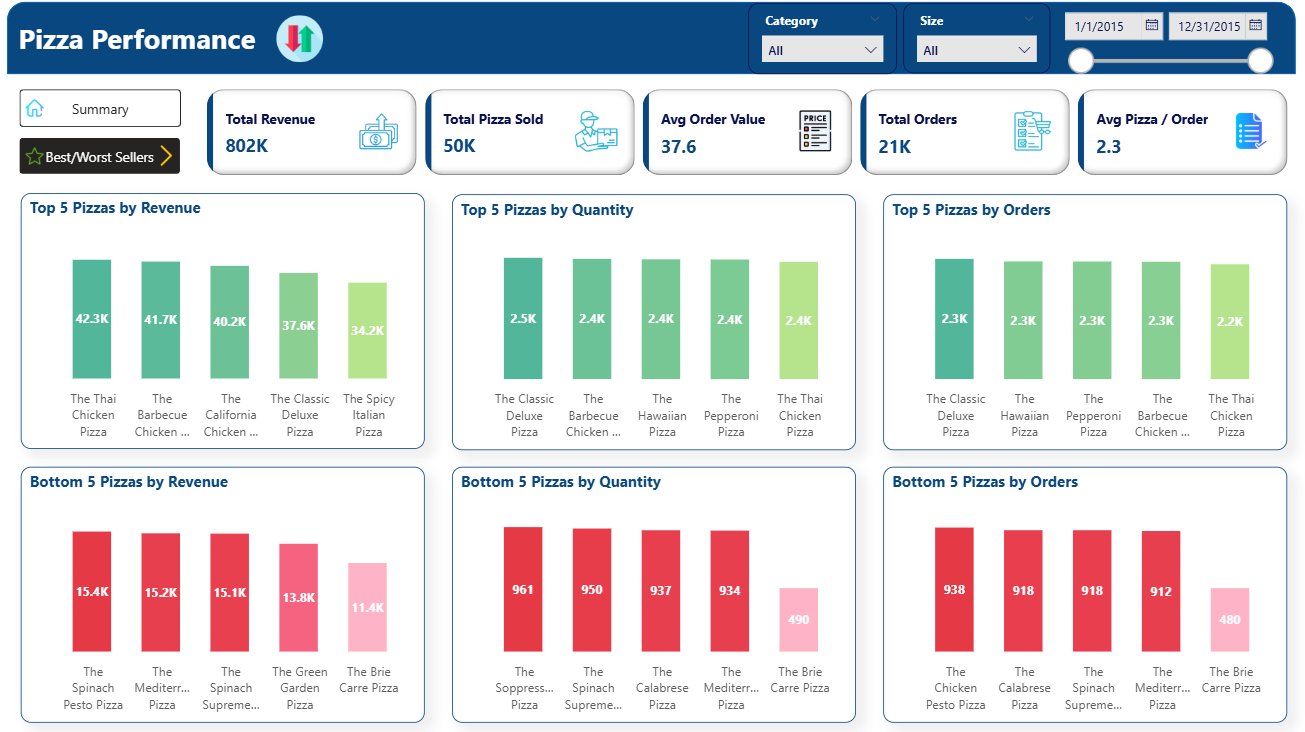

Layout of this report page (visuals, bound fields, positions):
{"tool":"powerbi","page":{"name":"Best/Worst Sellers","canvas":[1280,720],"ordinal":1},"visuals":[{"type":"columnChart","title":"Top 5 Pizzas by Revenue","fields":{"Category":["pizza_sales.pizza_name"],"Y":["Key Measures.Total Revenue"]},"box":[23.2,191.1,395,250.7],"z":0},{"type":"columnChart","title":"Bottom 5 Pizzas by Revenue","fields":{"Category":["pizza_sales.pizza_name"],"Y":["Key Measures.Total Revenue"]},"box":[23.2,459.1,395,250],"z":1000},{"type":"columnChart","title":"Bottom 5 Pizzas by Quantity","fields":{"Category":["pizza_sales.pizza_name"],"Y":["Key Measures.Total Pizza Sold"]},"box":[445.1,459.1,395,250],"z":2000},{"type":"columnChart","title":"Top 5 Pizzas by Orders","fields":{"Category":["pizza_sales.pizza_name"],"Y":["Key Measures.Total Orders"]},"box":[867,191.8,395,250],"z":3000},{"type":"columnChart","title":"Top 5 Pizzas by Quantity","fields":{"Category":["pizza_sales.pizza_name"],"Y":["Key Measures.Total Pizza Sold"]},"box":[445.1,191.8,395,250],"z":4000},{"type":"columnChart","title":"Bottom 5 Pizzas by Orders","fields":{"Category":["pizza_sales.pizza_name"],"Y":["Key Measures.Total Orders"]},"box":[867,459.1,395,250],"z":5000},{"type":"group","id":"g1","title":"Group 1","box":[22,89.5,159,37.9],"z":6000},{"type":"group","id":"g2","title":"Group 2","box":[22,136.7,157.7,35.5],"z":7000},{"type":"image","box":[150.4,135.7,30.6,36.7],"z":8000},{"type":"cardVisual","fields":{"Data":["pizza_sales.Total Revenue","pizza_sales.Total Pizza Sold","pizza_sales.Avg Order value","pizza_sales.Total Orders","pizza_sales.Avg Pizza Per Order"]},"box":[200.5,84.4,1070,94.2],"z":9000},{"type":"shape","box":[9.8,3.7,1260.7,70.9],"z":10000},{"type":"slicer","fields":{"Values":["pizza_sales.order_date"]},"box":[1032.1,3.7,225,73],"z":11000},{"type":"slicer","fields":{"Values":["pizza_sales.pizza_category"]},"box":[734.9,4.9,145.5,69.7],"z":12000},{"type":"slicer","fields":{"Values":["pizza_sales.pizza_size"]},"box":[886.6,4.9,144.3,68.5],"z":13000},{"type":"image","box":[265.4,12.2,61.1,55],"z":14000},{"type":"pageNavigator","box":[22,89.7,159,37.7],"z":22000,"group":"g1"},{"type":"pageNavigator","box":[22,137,157.7,35.2],"z":23000,"group":"g2"},{"type":"image","box":[23.1,89.5,27.2,37.5],"z":24500,"group":"g1"},{"type":"image","box":[23.3,136.7,27.1,35.4],"z":25000,"group":"g2"}]}

Visuals, with their boxes in screenshot pixels (x1, y1, x2, y2), scaled from the page's 1280x720 canvas onto the 1305x732 screenshot:
"Top 5 Pizzas by Revenue" columnChart: 24:194:426:449
"Bottom 5 Pizzas by Revenue" columnChart: 24:467:426:721
"Bottom 5 Pizzas by Quantity" columnChart: 454:467:857:721
"Top 5 Pizzas by Orders" columnChart: 884:195:1287:449
"Top 5 Pizzas by Quantity" columnChart: 454:195:857:449
"Bottom 5 Pizzas by Orders" columnChart: 884:467:1287:721
"Group 1" group: 22:91:185:130
"Group 2" group: 22:139:183:175
image: 153:138:185:175
cardVisual - pizza_sales.Total Revenue x pizza_sales.Total Pizza Sold: 204:86:1295:182
shape: 10:4:1295:76
slicer - pizza_sales.order_date: 1052:4:1282:78
slicer - pizza_sales.pizza_category: 749:5:898:76
slicer - pizza_sales.pizza_size: 904:5:1051:75
image: 271:12:333:68
pageNavigator: 22:91:185:130
pageNavigator: 22:139:183:175
image: 24:91:51:129
image: 24:139:51:175
